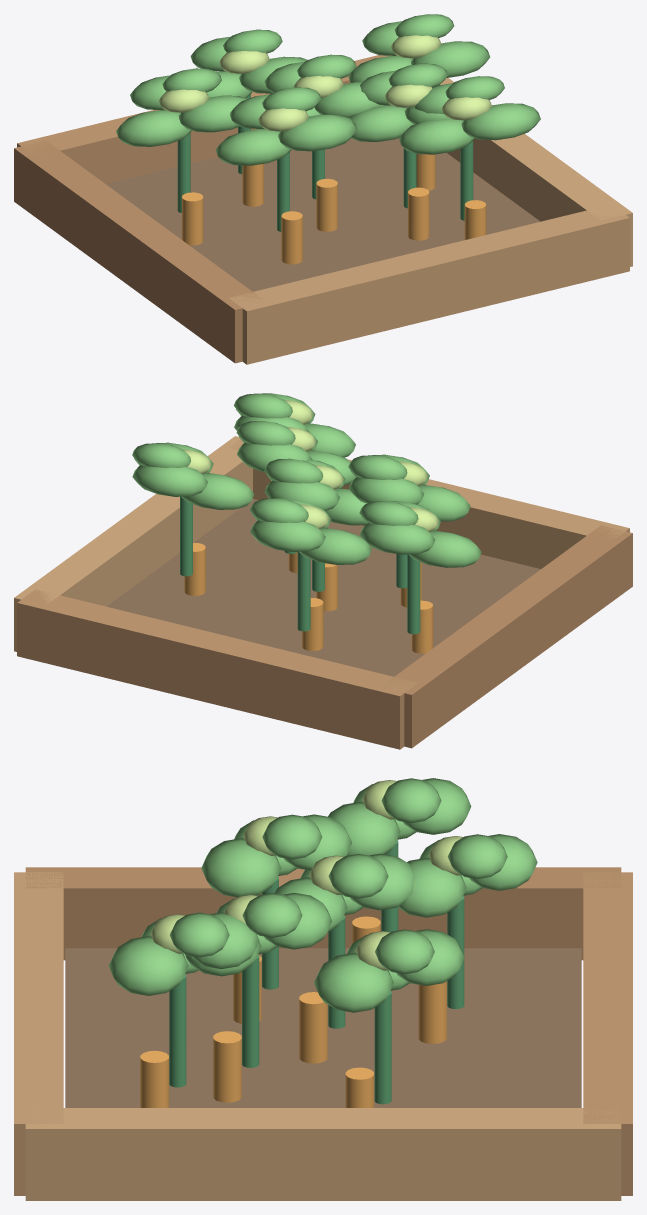
File: crop_root_late.glb
3 renders of one model, top to bottom at view 1: azimuth 30°, elevation 25°; view 2: azimuth 150°, elevation 25°; view 3: azimuth 270°, elevation 25°, orthographic. The views are drawn at different scales.
Size of the model in its own units: 0.935 by 0.3774 by 0.935.
